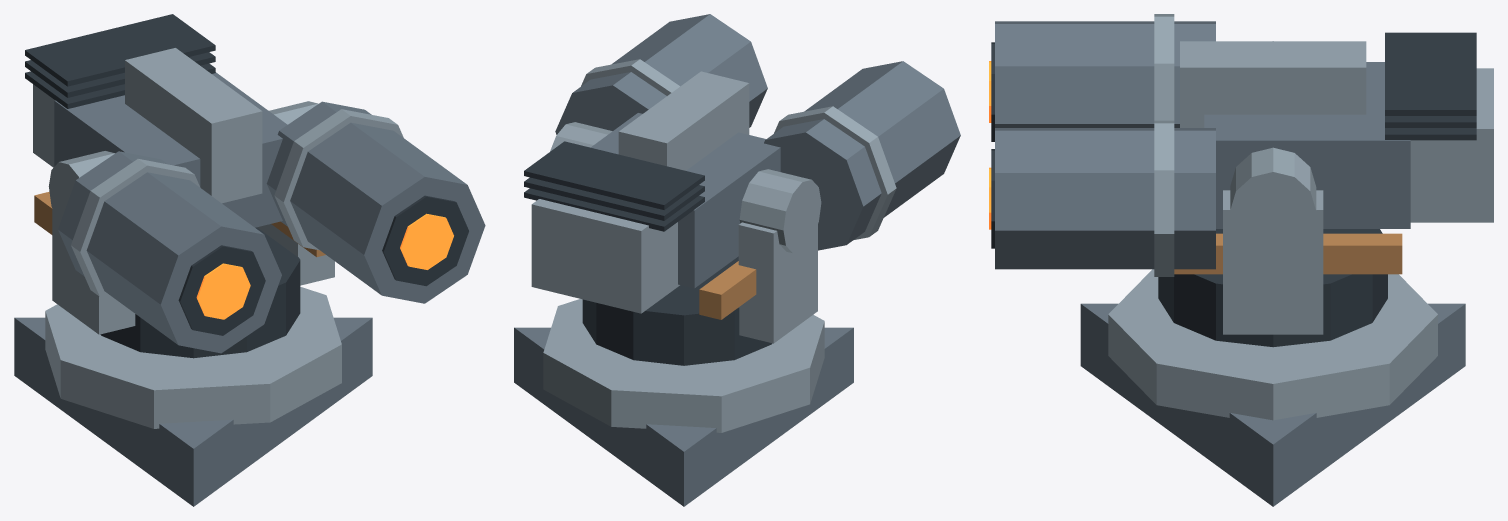
File: kiln_t1.glb
3 renders of one model, left to right at view 1: azimuth 30°, elevation 25°; view 2: azimuth 150°, elevation 25°; view 3: azimuth 270°, elevation 25°, orthographic. The views are drawn at different scales.
Parts seen in each view (by area): view 1: Projector chamber (×2), Base upper armor, Foundation, Cooling spine, Rear radiator (×3), Receiver, Recessed throat (×2), Focusing rim (×2), Elevation fork (×2), Yaw bearing, Internal glow (×2), Trunnion (×2) (+2 smaller); view 2: Projector chamber (×2), Base upper armor, Foundation, Rear equipment, Rear radiator (×3), Yaw bearing, Receiver, Cooling spine, Elevation fork, Trunnion (×2), Focusing rim (×2), Insulated feed; view 3: Projector chamber (×2), Base upper armor, Foundation, Receiver, Cooling spine, Elevation fork, Rear radiator (×3), Yaw bearing, Rear equipment, Trunnion, Focusing rim (×2), Insulated feed.
Part boxes in pixels (box(x1,y1,x2,y2)): Projector chamber (×2): box(58, 101, 485, 353); Base upper armor: box(45, 287, 341, 428); Foundation: box(14, 317, 372, 506); Cooling spine: box(125, 48, 262, 203); Rear radiator (×3): box(25, 14, 215, 108); Receiver: box(54, 72, 287, 227); Recessed throat (×2): box(178, 195, 468, 335); Focusing rim (×2): box(71, 109, 403, 299); Elevation fork (×2): box(52, 209, 334, 334); Yaw bearing: box(100, 227, 300, 358); Internal glow (×2): box(196, 213, 453, 319); Trunnion (×2): box(48, 101, 318, 225); Projector chamber (×2): box(555, 14, 960, 250); Base upper armor: box(543, 299, 824, 432); Foundation: box(514, 327, 853, 506); Rear equipment: box(531, 199, 679, 313); Rear radiator (×3): box(524, 141, 704, 231); Yaw bearing: box(582, 256, 772, 365); Receiver: box(591, 113, 780, 288); Cooling spine: box(618, 71, 749, 170); Elevation fork: box(738, 222, 817, 343); Trunnion (×2): box(550, 122, 821, 253); Focusing rim (×2): box(581, 59, 896, 240); Insulated feed: box(699, 261, 756, 319); Projector chamber (×2): box(995, 21, 1215, 269); Base upper armor: box(1108, 269, 1437, 420); Foundation: box(1080, 303, 1465, 506); Receiver: box(1204, 62, 1410, 228); Cooling spine: box(1180, 41, 1366, 127); Elevation fork: box(1223, 190, 1323, 334); Rear radiator (×3): box(1385, 32, 1476, 140); Yaw bearing: box(1158, 229, 1387, 347); Rear equipment: box(1410, 68, 1493, 222); Trunnion: box(1230, 147, 1316, 249); Focusing rim (×2): box(1154, 14, 1174, 276); Insulated feed: box(1174, 233, 1402, 274).
Size of the model in its own units: 1.5 by 1.38 by 1.76.
